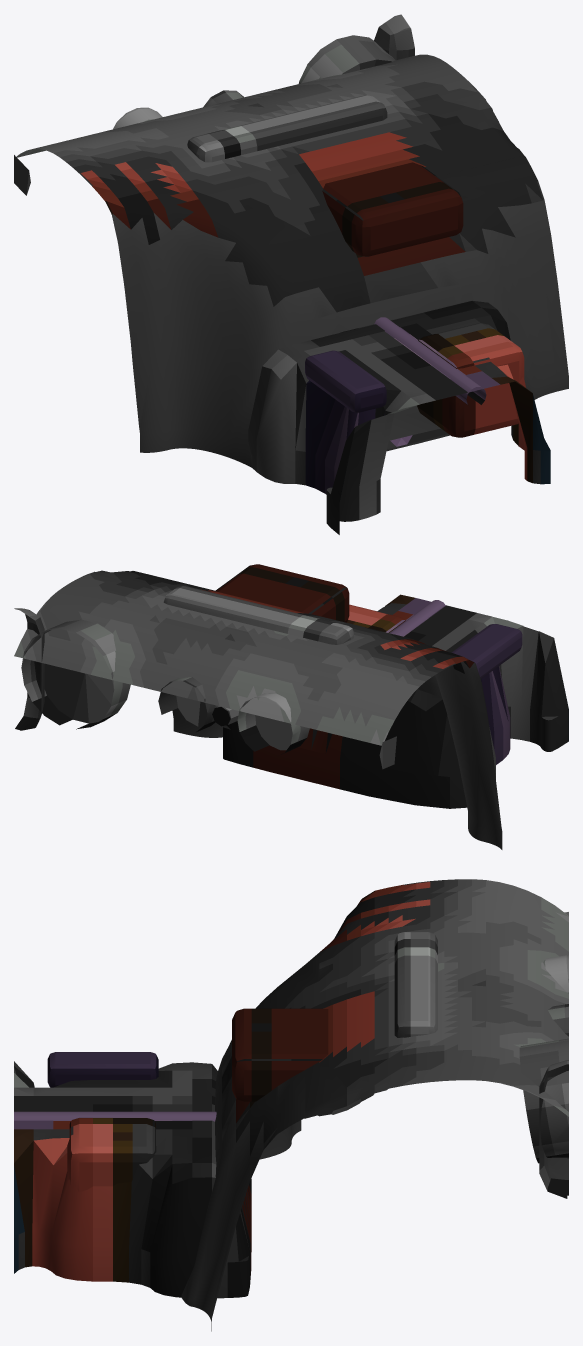
Rendered from deli_tower_53.glb.
3 views of the same model, one above another, from view 1: azimuth 30°, elevation 25°; view 2: azimuth 150°, elevation 25°; view 3: azimuth 270°, elevation 25° (orthographic). The views are drawn at different scales.
Visible parts, largest first — view 1: deli_tower_53_hull, deli_tower_53_mast, deli_tower_53_hatch, deli_tower_53_mast_box, deli_tower_53_ledge, deli_tower_53_mast_strip, deli_tower_53_s2, deli_tower_53_mast_pipe, deli_tower_53_s4_low; view 2: deli_tower_53_hull, deli_tower_53_mast, deli_tower_53_s2, deli_tower_53_hatch, deli_tower_53_ledge, deli_tower_53_s1, deli_tower_53_mast_strip, deli_tower_53_s3, deli_tower_53_s4_low, deli_tower_53_mast_box, deli_tower_53_mast_pipe, deli_tower_53_s5 (+1 smaller); view 3: deli_tower_53_hull, deli_tower_53_mast, deli_tower_53_hatch, deli_tower_53_mast_box, deli_tower_53_ledge, deli_tower_53_s2, deli_tower_53_mast_strip, deli_tower_53_mast_pipe, deli_tower_53_s4_low, deli_tower_53_s1.
Part boxes in pixels (bbox=[...]): deli_tower_53_hull: bbox=[16, 54, 568, 467]; deli_tower_53_mast: bbox=[248, 301, 550, 534]; deli_tower_53_hatch: bbox=[322, 162, 463, 256]; deli_tower_53_mast_box: bbox=[417, 323, 524, 437]; deli_tower_53_ledge: bbox=[187, 95, 387, 162]; deli_tower_53_mast_strip: bbox=[305, 350, 386, 412]; deli_tower_53_s2: bbox=[298, 35, 395, 83]; deli_tower_53_mast_pipe: bbox=[374, 317, 486, 405]; deli_tower_53_s4_low: bbox=[374, 14, 414, 60]; deli_tower_53_hull: bbox=[14, 570, 502, 849]; deli_tower_53_mast: bbox=[223, 594, 568, 808]; deli_tower_53_s2: bbox=[21, 619, 130, 729]; deli_tower_53_hatch: bbox=[215, 564, 349, 622]; deli_tower_53_ledge: bbox=[163, 586, 353, 644]; deli_tower_53_s1: bbox=[237, 693, 309, 754]; deli_tower_53_mast_strip: bbox=[451, 624, 522, 678]; deli_tower_53_s3: bbox=[158, 677, 218, 732]; deli_tower_53_s4_low: bbox=[14, 608, 44, 730]; deli_tower_53_mast_box: bbox=[347, 604, 405, 632]; deli_tower_53_mast_pipe: bbox=[389, 600, 445, 636]; deli_tower_53_s5: bbox=[379, 736, 396, 769]; deli_tower_53_hull: bbox=[181, 879, 568, 1331]; deli_tower_53_mast: bbox=[14, 1061, 251, 1298]; deli_tower_53_hatch: bbox=[232, 1008, 328, 1101]; deli_tower_53_mast_box: bbox=[67, 1117, 156, 1192]; deli_tower_53_ledge: bbox=[394, 932, 437, 1037]; deli_tower_53_s2: bbox=[519, 1038, 568, 1163]; deli_tower_53_mast_strip: bbox=[47, 1052, 158, 1087]; deli_tower_53_mast_pipe: bbox=[14, 1111, 216, 1121]; deli_tower_53_s4_low: bbox=[539, 1060, 568, 1198]; deli_tower_53_s1: bbox=[543, 955, 568, 993].
Size of the model in its own units: 23.98 by 14.89 by 27.98.
